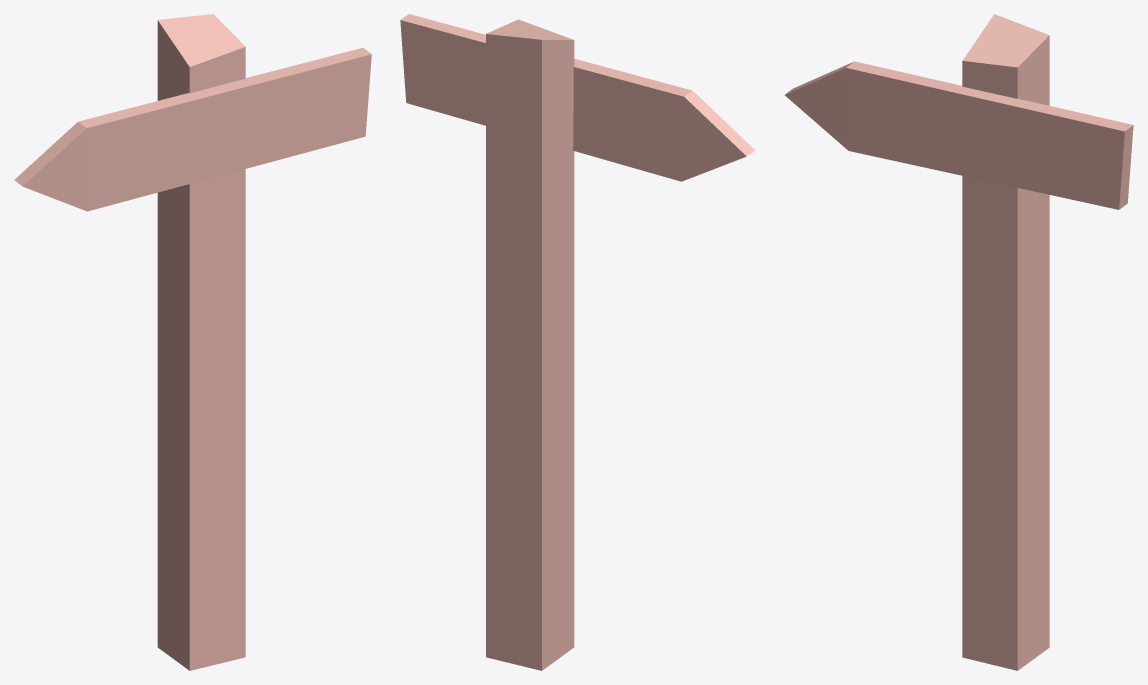
The model's file is Mega_Asset_s_Pack_Cube_312.FBX.
3 renders of one model, left to right at view 1: azimuth 30°, elevation 25°; view 2: azimuth 150°, elevation 25°; view 3: azimuth 330°, elevation 25°, orthographic.
Parts seen in each view (by area): view 1: Mega_Asset_s_Pack_Cube_312; view 2: Mega_Asset_s_Pack_Cube_312; view 3: Mega_Asset_s_Pack_Cube_312.
Boxes of the visible parts, left/top/right/bottom form: Mega_Asset_s_Pack_Cube_312: left=14, top=14, right=371, bottom=670; Mega_Asset_s_Pack_Cube_312: left=400, top=14, right=755, bottom=670; Mega_Asset_s_Pack_Cube_312: left=785, top=14, right=1133, bottom=670.
Size of what is drawn, in the model's own units: 160 by 32.84 by 277.
